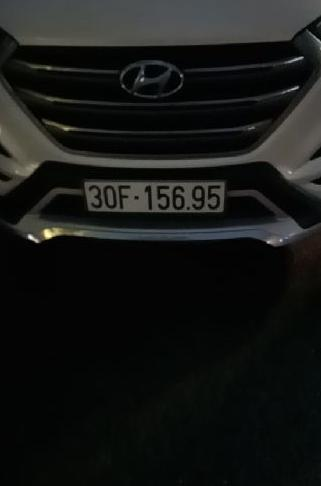Plate-iWeP: (79, 177, 230, 219)
